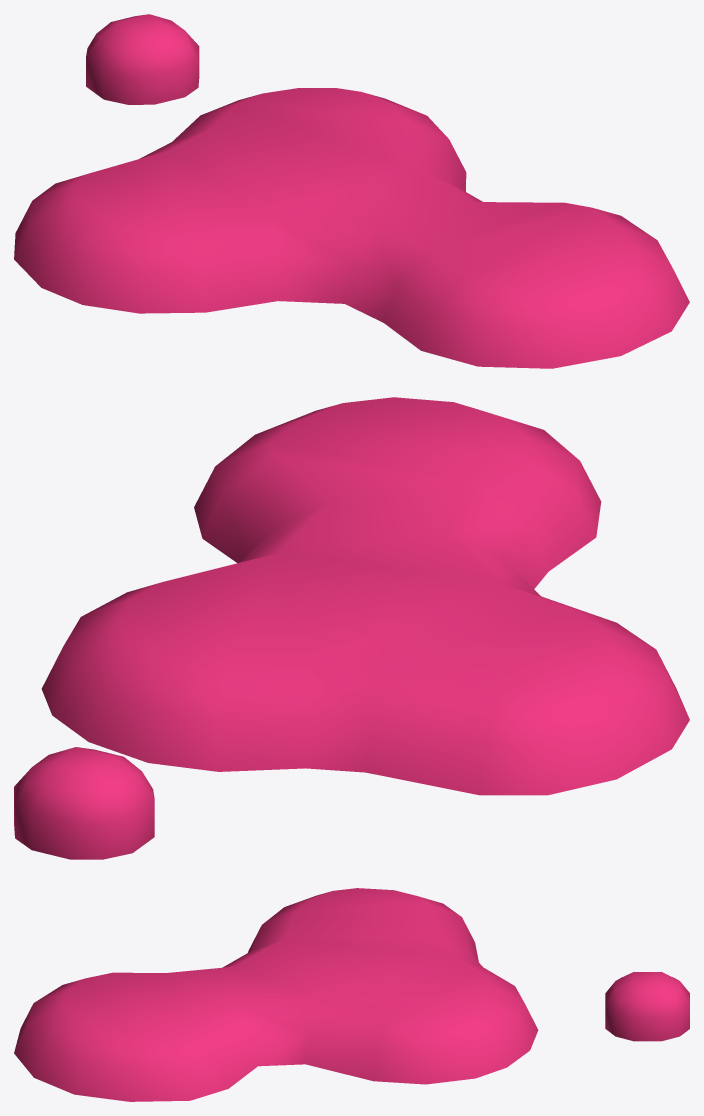
Rendered from colorspot.glb.
3 renders of one model, top to bottom at view 1: azimuth 30°, elevation 25°; view 2: azimuth 150°, elevation 25°; view 3: azimuth 270°, elevation 25°, orthographic. The views are drawn at different scales.
Visible parts, largest first — view 1: ColorSpot2; view 2: ColorSpot2; view 3: ColorSpot2.
Boxes of the visible parts, x1,y1,x2,y2 form: ColorSpot2: (14, 14, 689, 368); ColorSpot2: (14, 397, 689, 859); ColorSpot2: (14, 888, 689, 1101).
Bounding box in the file's own units: 0.0201 × 0.00226 × 0.0304.
1 material, 1 textured.
